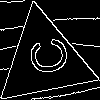C: (19, 35, 70, 80)
